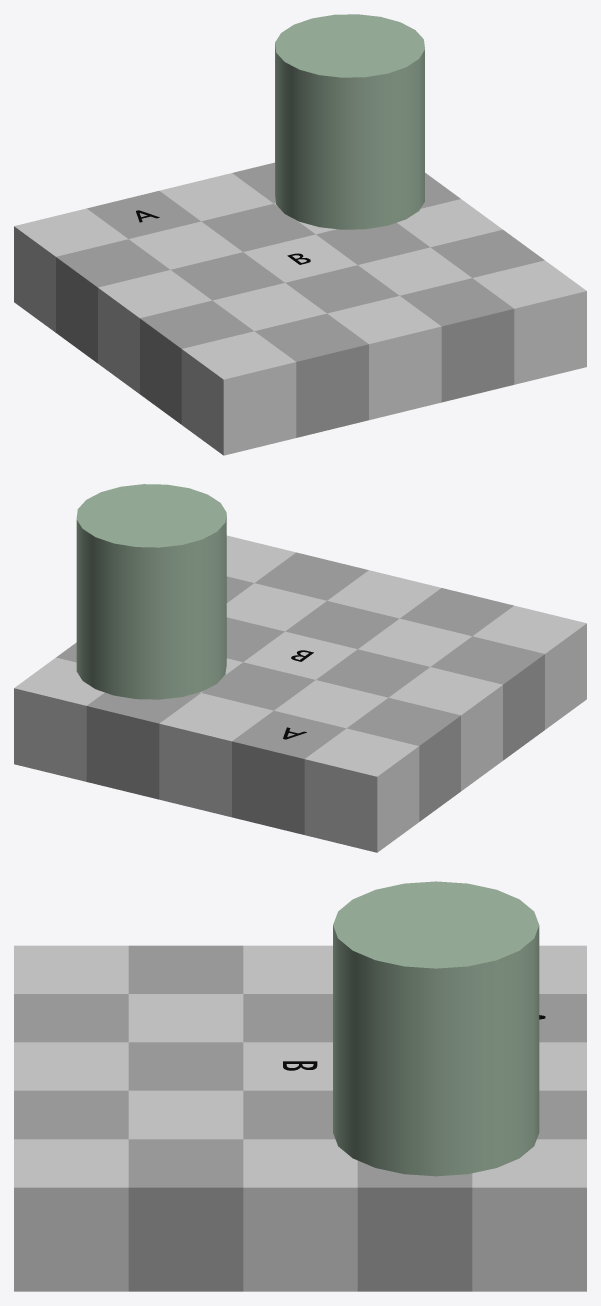
Rendered from CheckerShadowIllusion.fbx.
3 renders of one model, top to bottom at view 1: azimuth 30°, elevation 25°; view 2: azimuth 150°, elevation 25°; view 3: azimuth 270°, elevation 25°, orthographic. The views are drawn at different scales.
Parts seen in each view (by area): view 1: typeMesh3; view 2: typeMesh3; view 3: typeMesh3.
Part boxes in pixels (x1=…): typeMesh3: x1=14, y1=14, x2=586, y2=455; typeMesh3: x1=14, y1=484, x2=586, y2=852; typeMesh3: x1=14, y1=881, x2=586, y2=1291.
Bounding box in the file's own units: 5 × 3 × 5.
